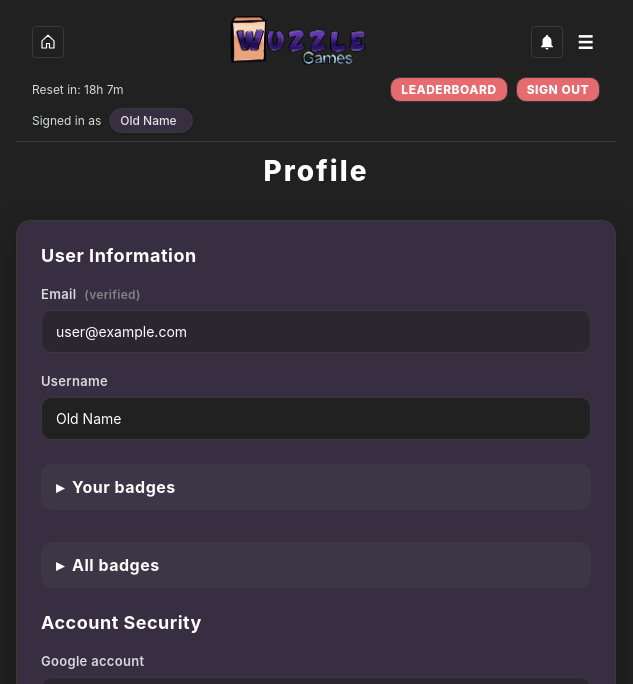
Test: Profile › reverts username and stays on profile when cancel is clicked
Step 1. Replace the text in the field labelled "Username" with "New Name" → (316, 418), box [41,397,591,440]
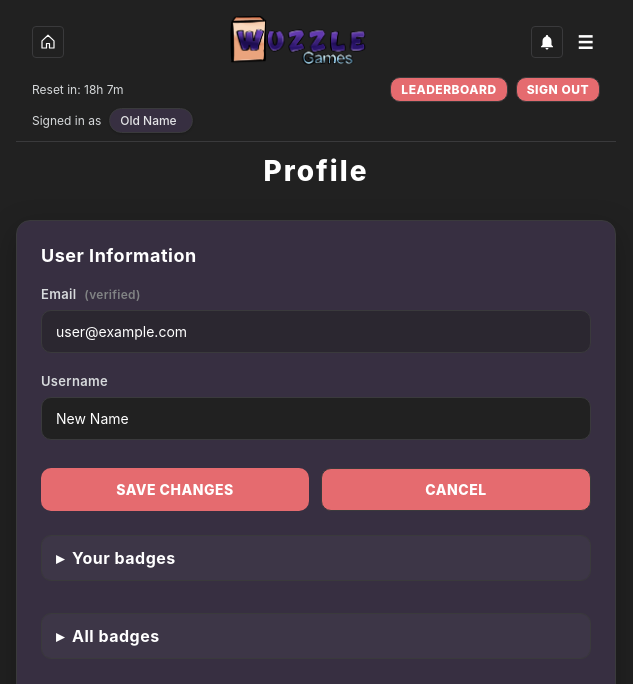
Step 2. Click the button "Cancel" → (456, 490), box [321,468,591,511]
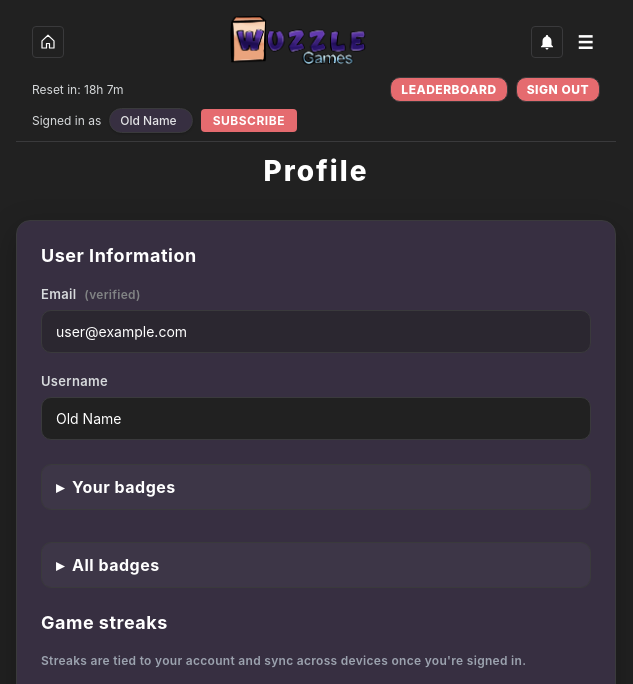
expect the field labelled "Username" holds "Old Name": met, box [41,397,591,440]
